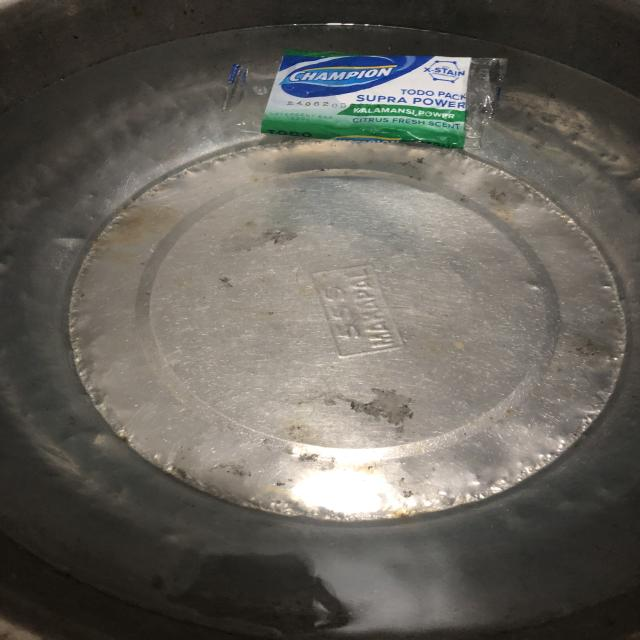Plastic Wrapper: (180, 19, 565, 191)
